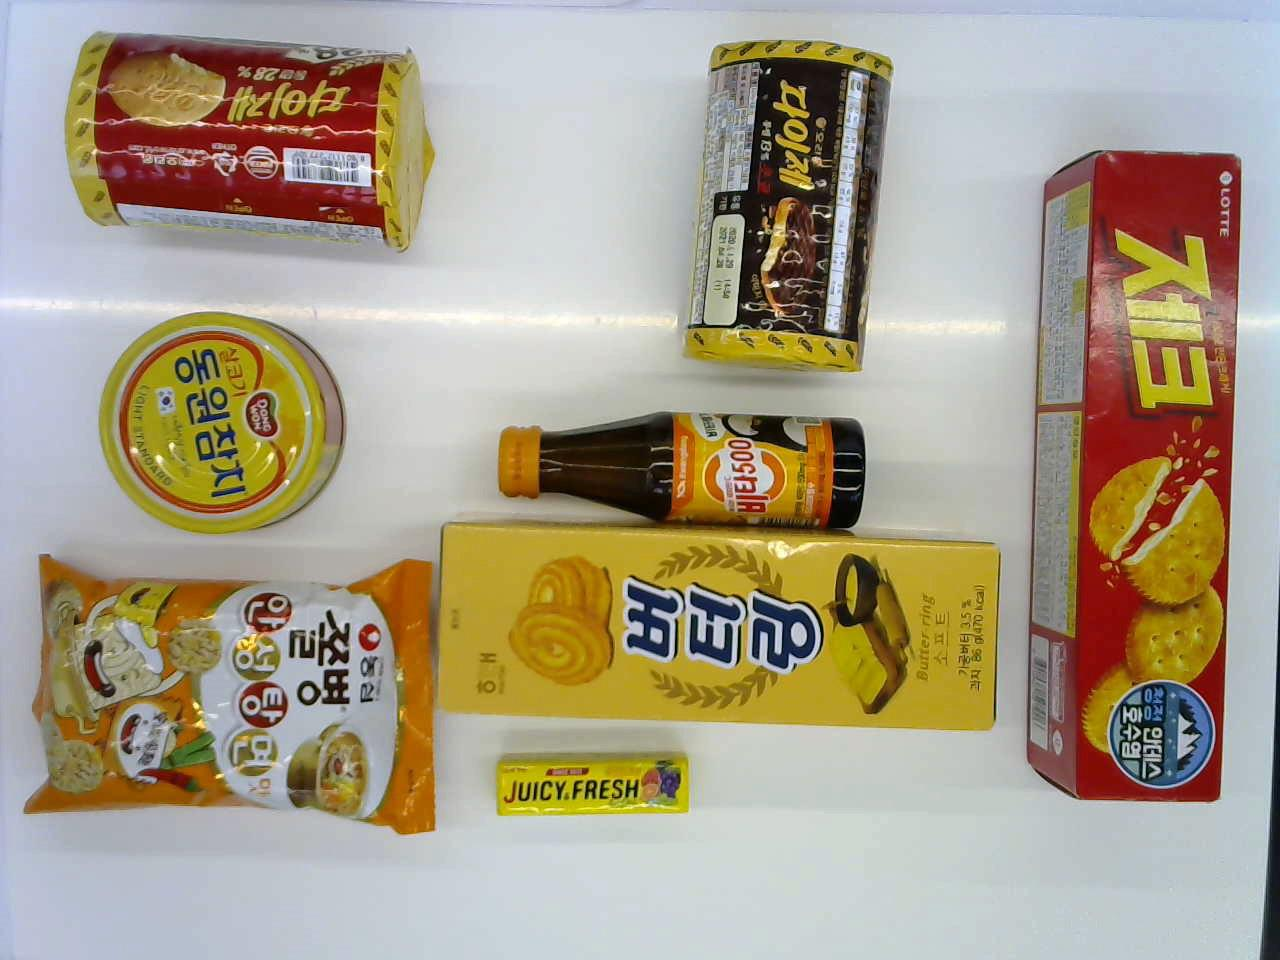buttering: (434, 529, 1005, 761)
diget_choco: (684, 34, 892, 383)
diget_ori: (65, 17, 437, 259)
jjolbyung_noodle: (35, 549, 434, 844)
juicyfresh: (493, 754, 694, 831)
tuna: (96, 304, 345, 534)
vita500: (484, 389, 862, 529)
zec: (1026, 137, 1229, 818)
